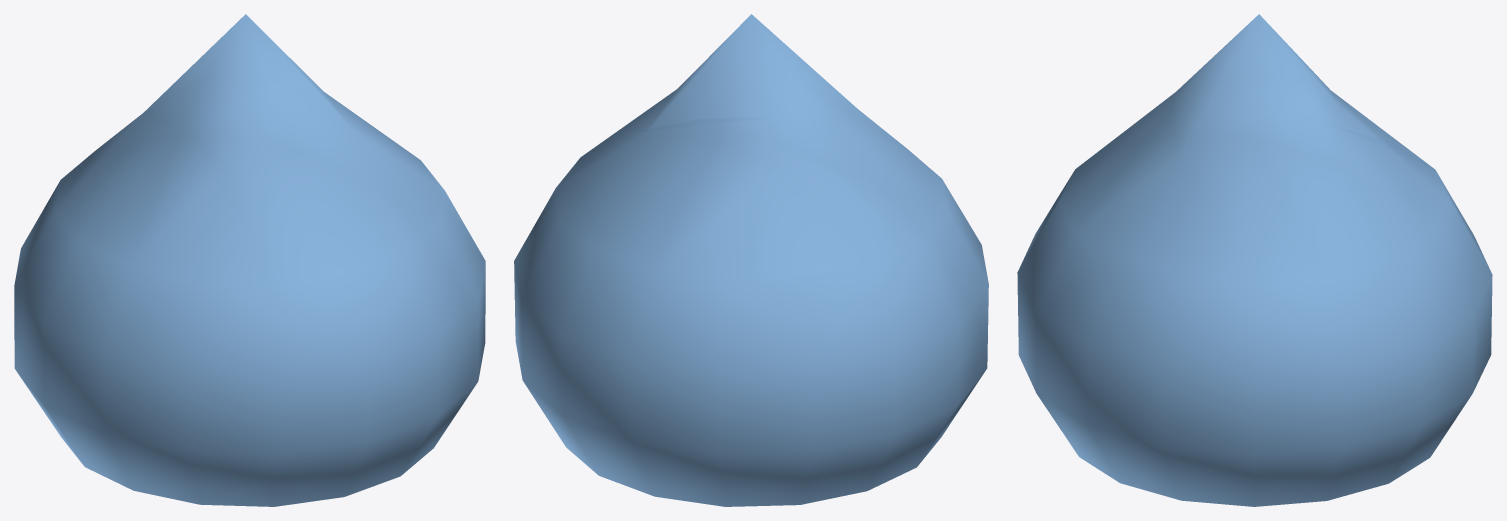
The model's file is Droppy_Water_Fix.fbx.
3 views of the same model, side by side, from view 1: azimuth 30°, elevation 25°; view 2: azimuth 150°, elevation 25°; view 3: azimuth 270°, elevation 25° (orthographic).
Visible parts, largest first — view 1: polySurface1; view 2: polySurface1; view 3: polySurface1.
Boxes of the visible parts, left/top/right/bottom form: polySurface1: left=14, top=14, right=485, bottom=506; polySurface1: left=514, top=14, right=988, bottom=506; polySurface1: left=1017, top=14, right=1492, bottom=506.
Bounding box in the file's own units: 2.83 × 2.9 × 2.83.
